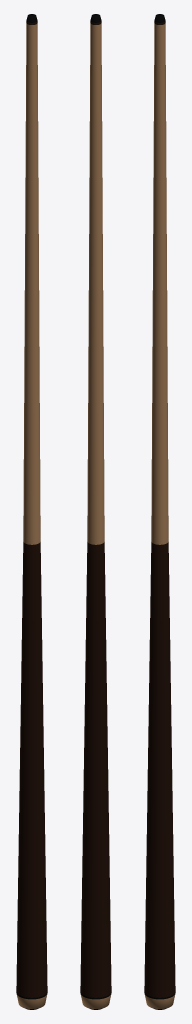
The model's file is CueStick.fbx.
3 renders of one model, left to right at view 1: azimuth 90°, elevation 25°; view 2: azimuth 150°, elevation 25°; view 3: azimuth 330°, elevation 25°, orthographic.
Visible parts, largest first — view 1: Cylinder; view 2: Cylinder; view 3: Cylinder.
Part boxes in pixels (x1,y1,x2,y2): Cylinder: [16, 14, 47, 1009]; Cylinder: [80, 14, 111, 1009]; Cylinder: [144, 14, 175, 1009].
Size of the model in its own units: 8.37 by 293 by 8.37.
